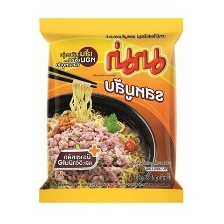snack: (32, 9, 192, 208)
